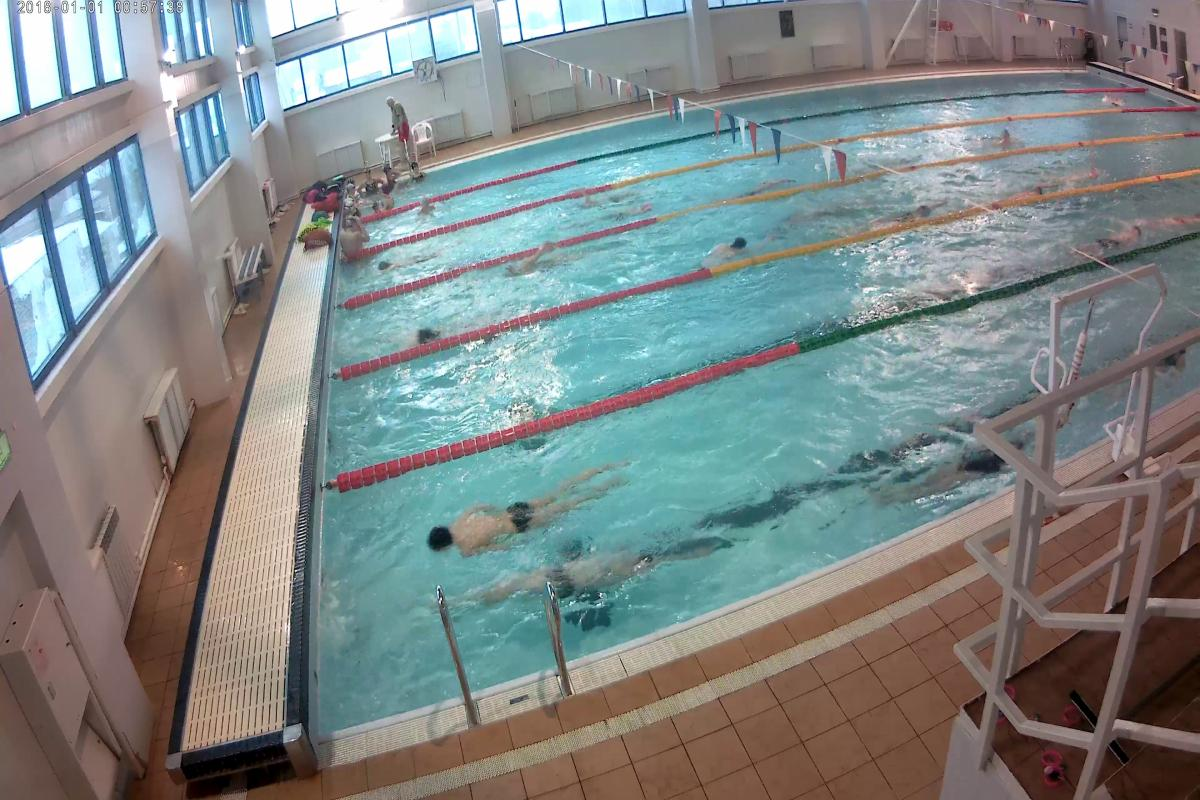swimmer: (420, 468, 593, 557), (491, 248, 569, 280), (692, 235, 756, 271), (1092, 216, 1144, 250), (393, 320, 442, 349), (986, 126, 1024, 147)
